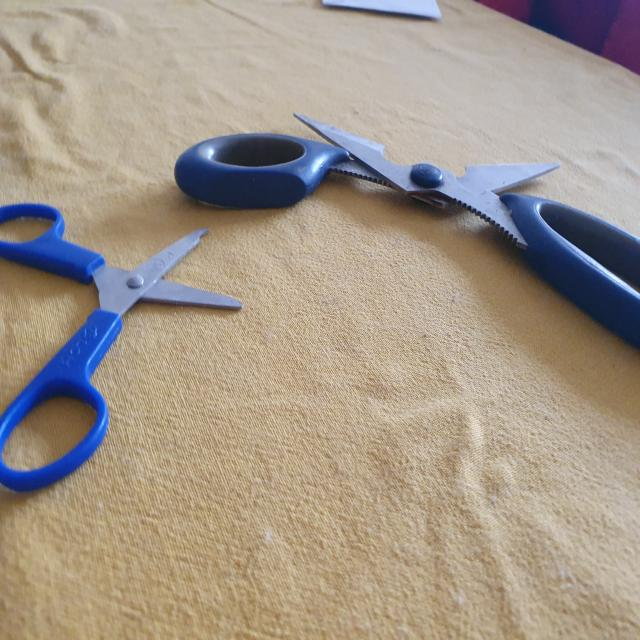scissors: (175, 108, 640, 346), (0, 198, 245, 496)
